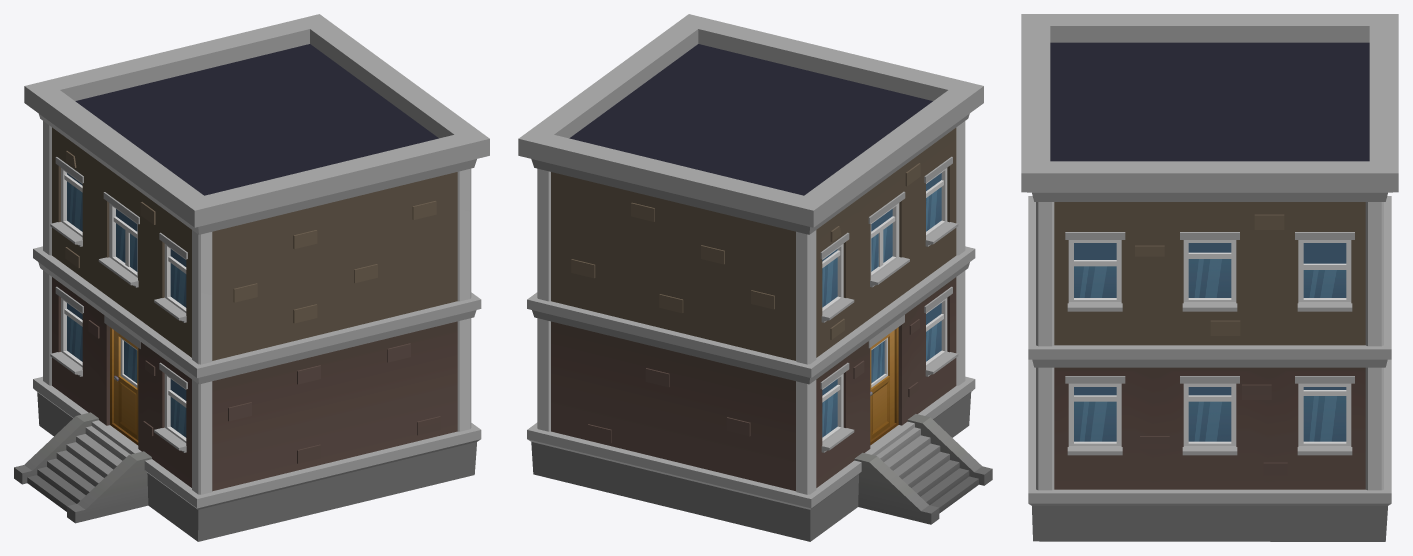
The model's file is Building_2_1_G.fbx.
3 views of the same model, side by side, from view 1: azimuth 30°, elevation 25°; view 2: azimuth 150°, elevation 25°; view 3: azimuth 270°, elevation 25° (orthographic). The views are drawn at different scales.
Visible parts, largest first — view 1: Building_2_1_G; view 2: Building_2_1_G; view 3: Building_2_1_G.
Part boxes in pixels (x1=…): Building_2_1_G: x1=14, y1=14, x2=489, y2=541; Building_2_1_G: x1=518, y1=14, x2=992, y2=541; Building_2_1_G: x1=1021, y1=14, x2=1398, y2=541.
Bounding box in the file's own units: 755 × 678 × 620.
